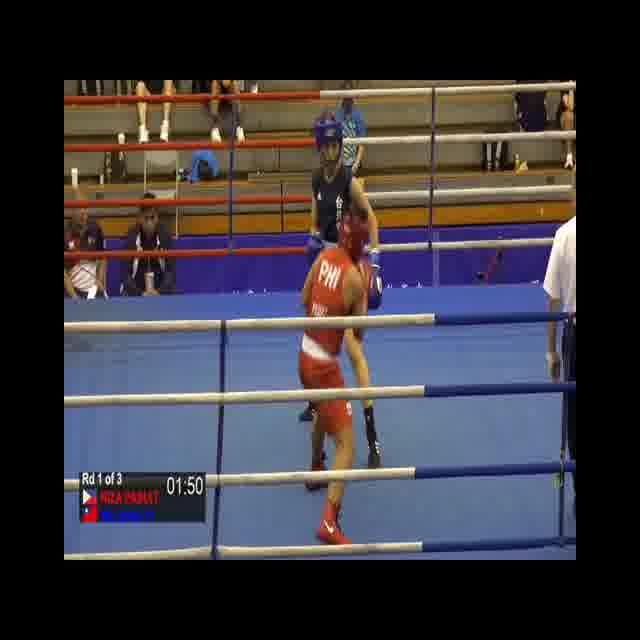blue-player: (295, 110, 382, 480)
red-player: (294, 204, 375, 553)
referee: (545, 168, 575, 532)
